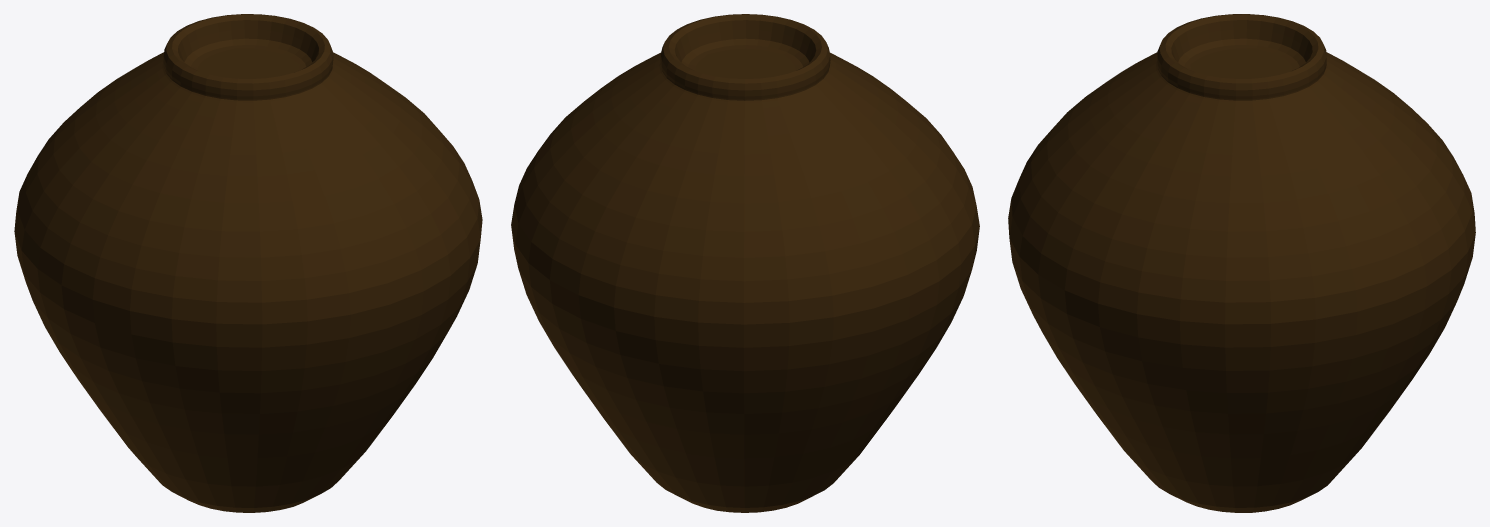
The model's file is Chinarman.glb.
The picture shows the model from 3 angles, left to right: view 1: azimuth 30°, elevation 25°; view 2: azimuth 150°, elevation 25°; view 3: azimuth 270°, elevation 25°; orthographic projection.
Parts seen in each view (by area): view 1: lOW; view 2: lOW; view 3: lOW.
Part boxes in pixels (box(x1,y1,x2,y2)): lOW: box(14, 14, 482, 512); lOW: box(511, 14, 979, 512); lOW: box(1008, 14, 1475, 512).
Bounding box in the file's own units: 2.58 × 2.66 × 2.58.
